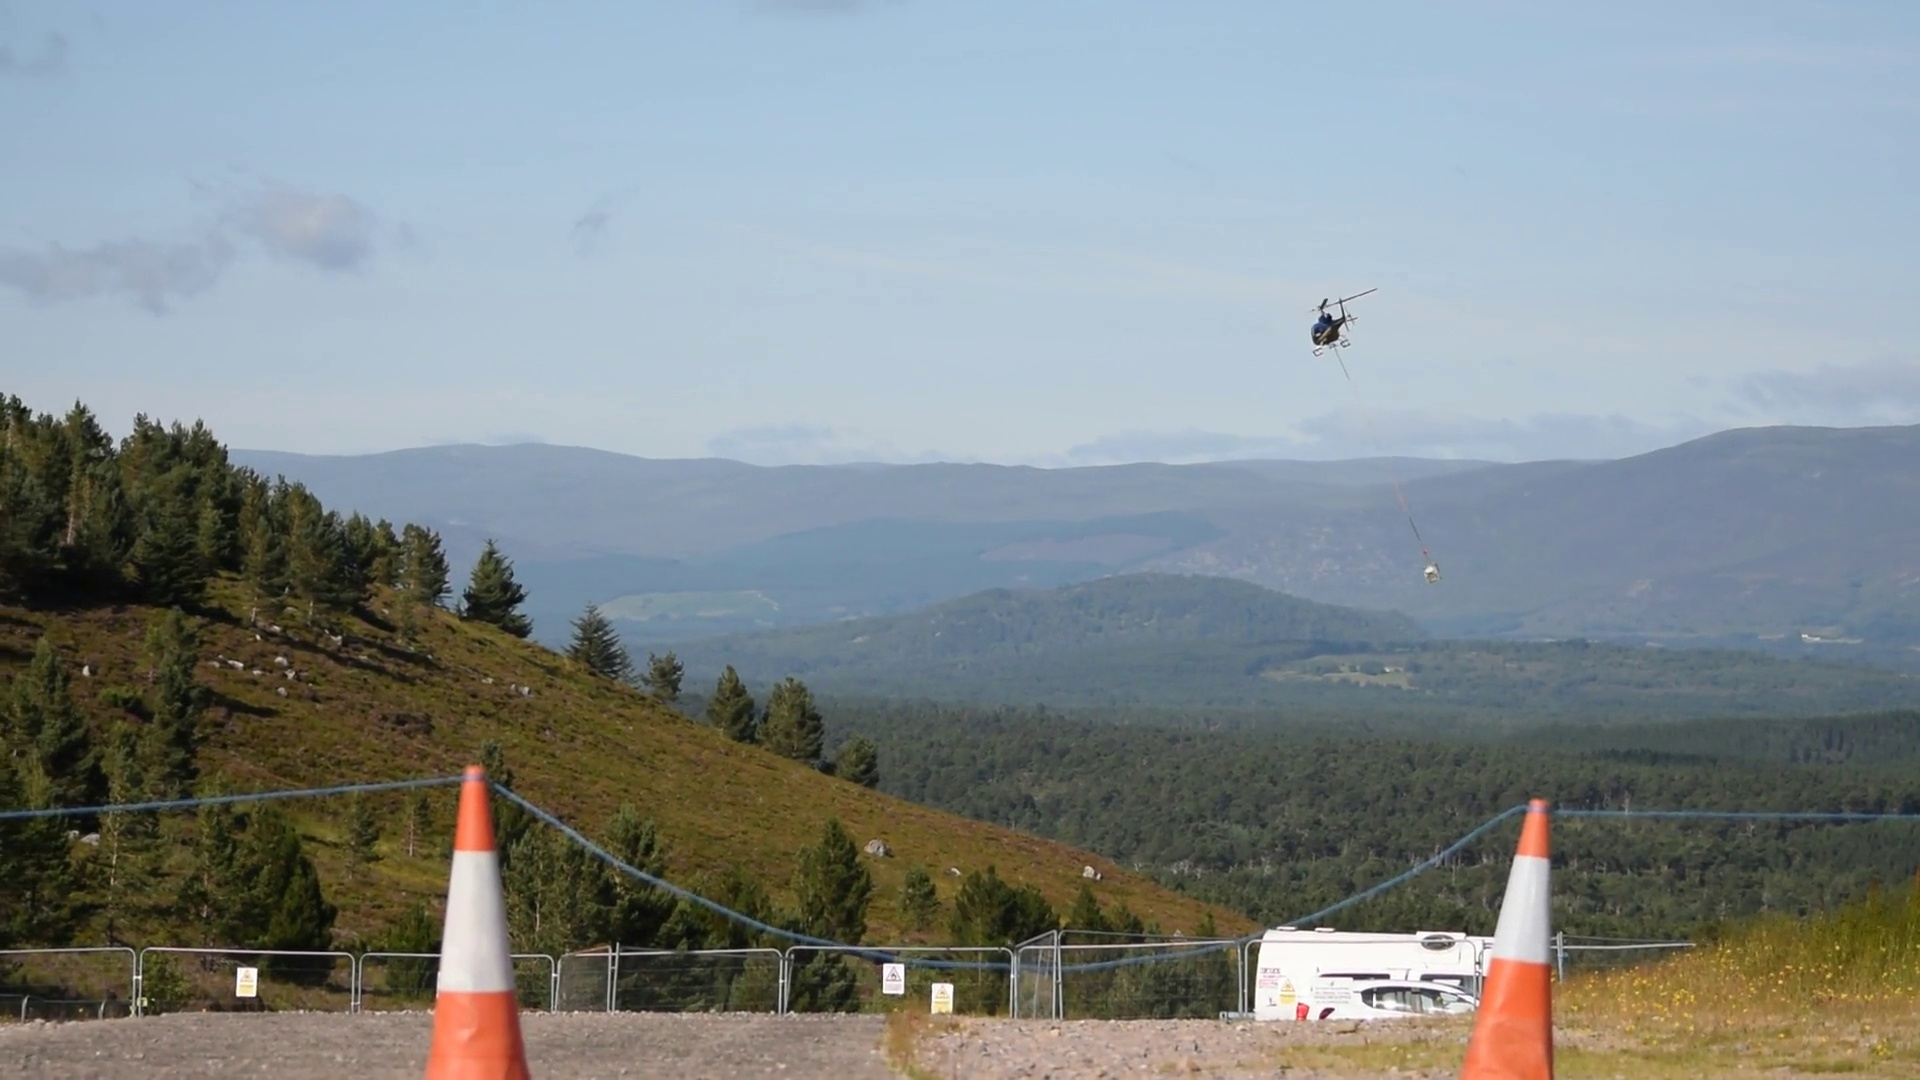heli: (1292, 285, 1373, 356)
